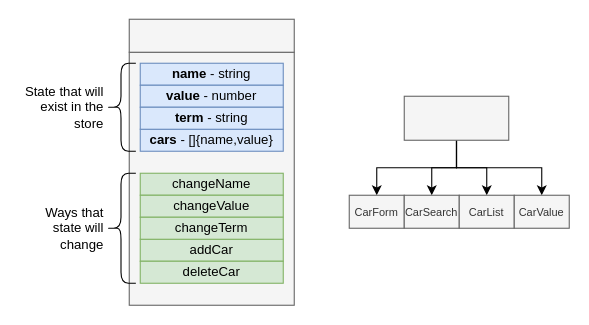
Image size: 589x325. Some labels were removed from this diagram. Each missing label, with the box of its shape:
App: (403, 95, 509, 140)
Redux Store: (128, 18, 294, 52)
